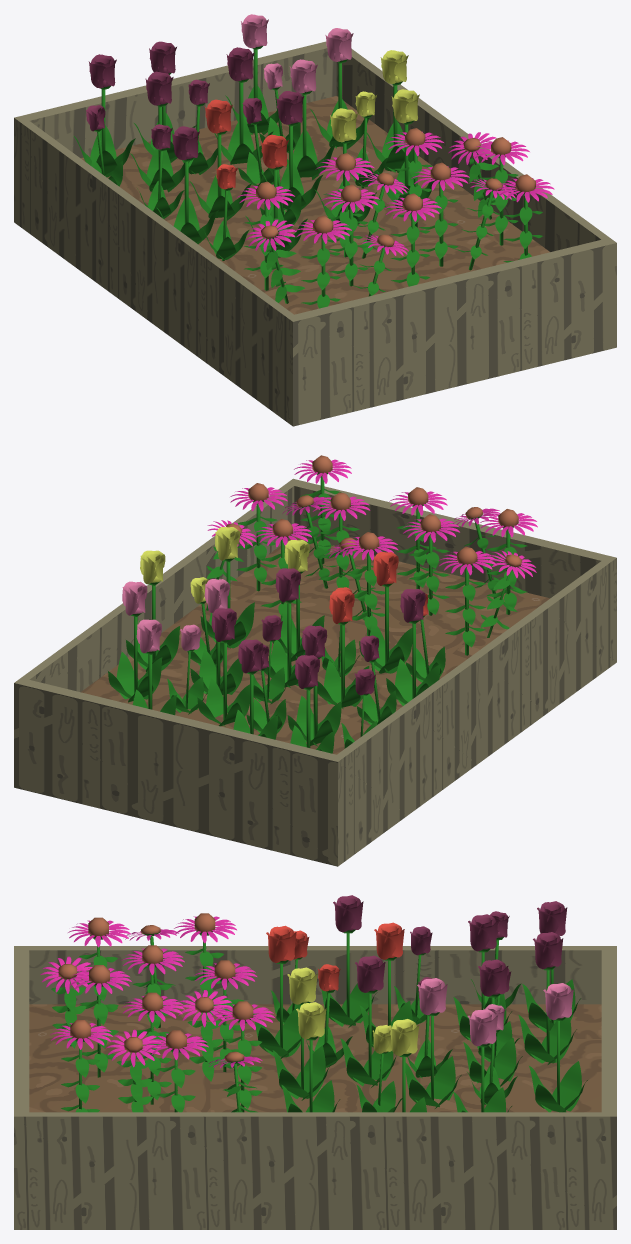
The model's file is garden-flowers.fbx.
3 views of the same model, one above another, from view 1: azimuth 30°, elevation 25°; view 2: azimuth 150°, elevation 25°; view 3: azimuth 270°, elevation 25° (orthographic). The views are drawn at different scales.
Parts seen in each view (by area): view 1: Cube.002, Cube.005, BézierCurve.236, BézierCurve.016, BézierCurve.355, BézierCurve.010, BézierCurve.373, BézierCurve.001, BézierCurve.353, BézierCurve.363, BézierCurve.319, BézierCurve.014 (+25 smaller); view 2: Cube.002, Cube.005, BézierCurve.015, BézierCurve.236, BézierCurve.355, BézierCurve.011, BézierCurve.010, BézierCurve.353, BézierCurve.001, BézierCurve.016, BézierCurve.043, BézierCurve.189 (+25 smaller); view 3: Cube.002, Cube.005, BézierCurve.236, BézierCurve.017, BézierCurve.016, BézierCurve.012, BézierCurve.354, BézierCurve.363, BézierCurve.011, BézierCurve.001, BézierCurve.355, BézierCurve.269 (+25 smaller).
Part boxes in pixels (x1,y1,x2,y2): Cube.002: [14, 41, 616, 426]; Cube.005: [81, 96, 549, 314]; BézierCurve.236: [315, 153, 408, 258]; BézierCurve.016: [286, 59, 336, 180]; BézierCurve.355: [214, 47, 273, 164]; BézierCurve.010: [189, 99, 251, 220]; BézierCurve.373: [73, 54, 135, 177]; BézierCurve.001: [156, 126, 218, 244]; BézierCurve.353: [130, 71, 189, 192]; BézierCurve.363: [261, 91, 322, 210]; BézierCurve.319: [245, 219, 304, 303]; BézierCurve.014: [366, 50, 421, 172]; Cube.002: [14, 478, 616, 866]; Cube.005: [81, 536, 549, 754]; BézierCurve.015: [108, 581, 162, 702]; BézierCurve.236: [325, 532, 398, 635]; BézierCurve.355: [197, 608, 249, 726]; BézierCurve.011: [359, 552, 412, 673]; BézierCurve.010: [317, 590, 369, 708]; BézierCurve.353: [287, 625, 341, 746]; BézierCurve.001: [386, 589, 440, 705]; BézierCurve.016: [190, 579, 243, 694]; BézierCurve.043: [438, 546, 496, 655]; BézierCurve.189: [230, 483, 287, 591]; Cube.002: [14, 946, 616, 1229]; Cube.005: [29, 1004, 601, 1112]; BézierCurve.236: [178, 960, 257, 1081]; BézierCurve.017: [529, 983, 587, 1112]; BézierCurve.016: [405, 978, 461, 1108]; BézierCurve.012: [272, 967, 331, 1100]; BézierCurve.354: [518, 932, 576, 1064]; BézierCurve.363: [340, 955, 396, 1087]; BézierCurve.011: [253, 925, 300, 1058]; BézierCurve.001: [321, 895, 377, 1027]; BézierCurve.355: [463, 959, 522, 1086]; BézierCurve.269: [106, 1029, 160, 1112].
Bounding box in the file's own units: 188 × 94.62 × 281.
